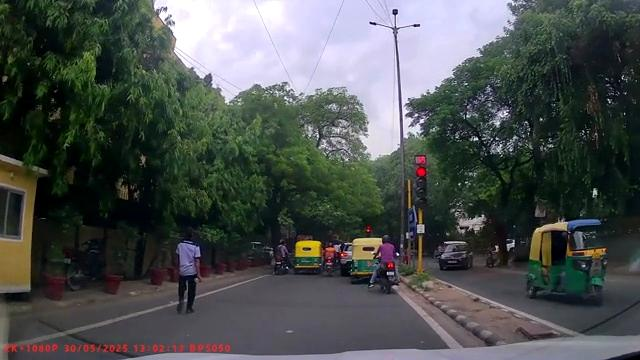motorcycle_with_helmet: (368, 234, 400, 295)
